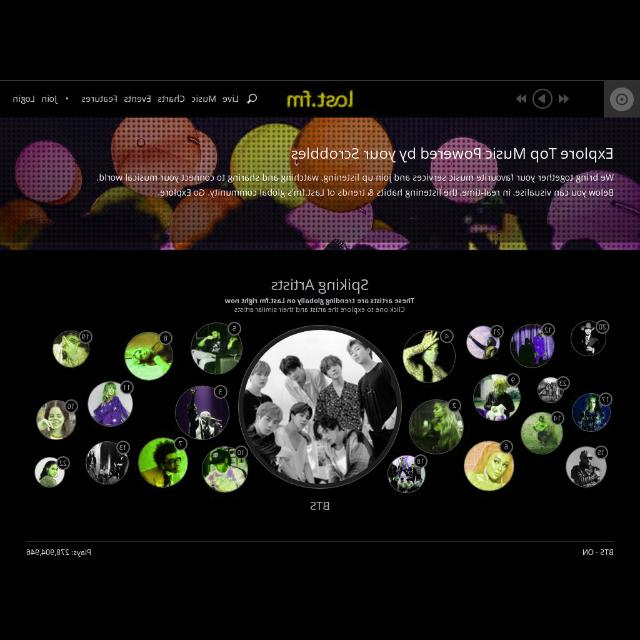backgroundimage: (1, 118, 640, 250)
icon: (287, 90, 353, 108), (610, 88, 634, 112), (532, 88, 552, 110), (558, 95, 570, 104), (516, 95, 526, 104), (248, 94, 256, 105)
image: (238, 325, 402, 489), (408, 400, 464, 454), (175, 386, 229, 440), (403, 330, 455, 382), (192, 322, 242, 374), (464, 441, 514, 492), (138, 437, 188, 487), (124, 331, 174, 381), (474, 374, 520, 421), (202, 446, 248, 492), (87, 381, 133, 427), (511, 324, 555, 368), (85, 441, 129, 485), (522, 412, 564, 454), (566, 447, 608, 488), (36, 400, 78, 440), (387, 454, 427, 494), (572, 393, 612, 432), (53, 330, 93, 368), (572, 320, 608, 356), (466, 325, 504, 359), (34, 457, 70, 488), (538, 376, 570, 404)
text: (158, 188, 612, 198), (292, 148, 612, 162), (96, 174, 614, 182), (272, 278, 368, 294), (235, 306, 405, 314), (224, 298, 414, 304), (27, 549, 91, 557), (583, 548, 613, 556), (82, 96, 118, 102), (13, 95, 35, 104), (310, 502, 330, 511), (158, 96, 184, 102), (124, 96, 150, 102), (192, 96, 216, 102), (222, 95, 238, 103), (42, 96, 58, 104)
toolbar: (1, 80, 640, 118)
